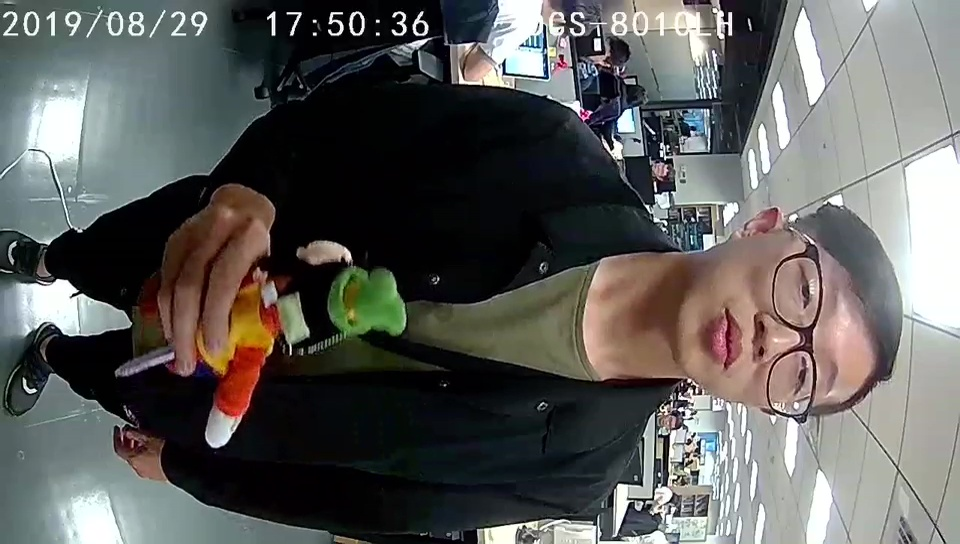goofy: (146, 232, 405, 448)
